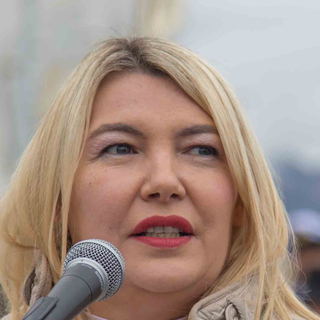eye: (91, 138, 143, 162), (176, 140, 225, 164)
